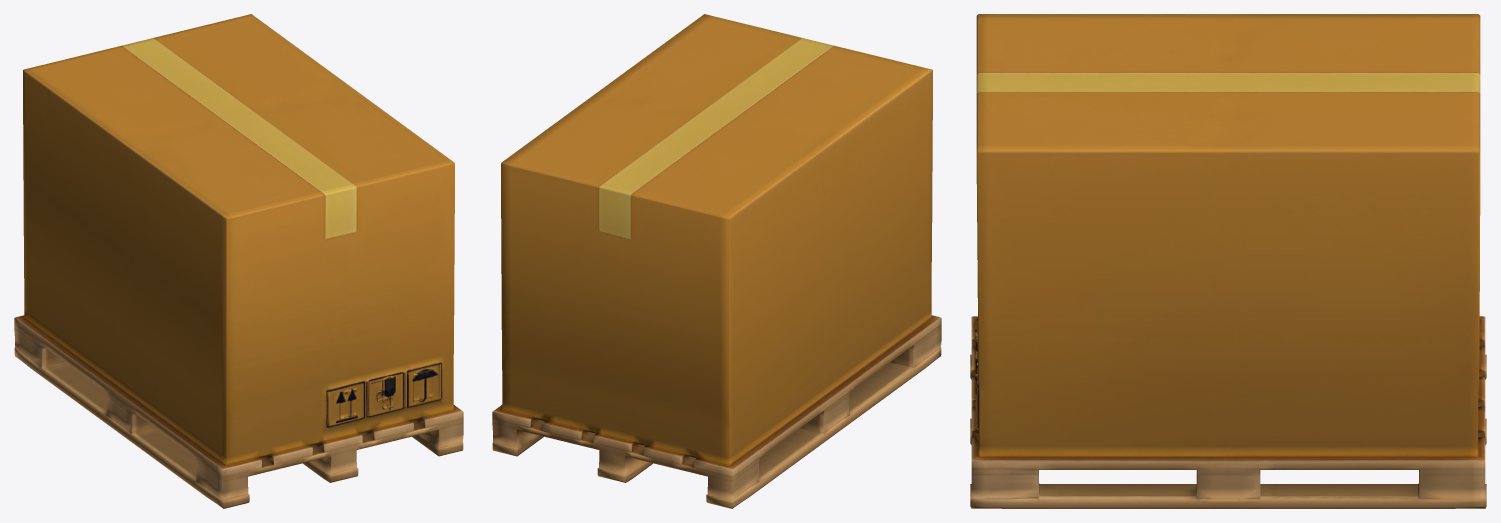
3 views of the same model, side by side, from view 1: azimuth 30°, elevation 25°; view 2: azimuth 150°, elevation 25°; view 3: azimuth 270°, elevation 25° (orthographic). The views are drawn at different scales.
Visible parts, largest first — view 1: tripo_node_84dee6ba-5c6f-43cd-a96d-530553b02037; view 2: tripo_node_84dee6ba-5c6f-43cd-a96d-530553b02037; view 3: tripo_node_84dee6ba-5c6f-43cd-a96d-530553b02037.
Part boxes in pixels (x1,y1,x2,y2): tripo_node_84dee6ba-5c6f-43cd-a96d-530553b02037: (14, 14, 463, 508); tripo_node_84dee6ba-5c6f-43cd-a96d-530553b02037: (492, 14, 941, 508); tripo_node_84dee6ba-5c6f-43cd-a96d-530553b02037: (970, 14, 1486, 508).
Bounding box in the file's own units: 0.6522 × 0.7402 × 0.9774.
Materials: 1 (1 with a texture image).
